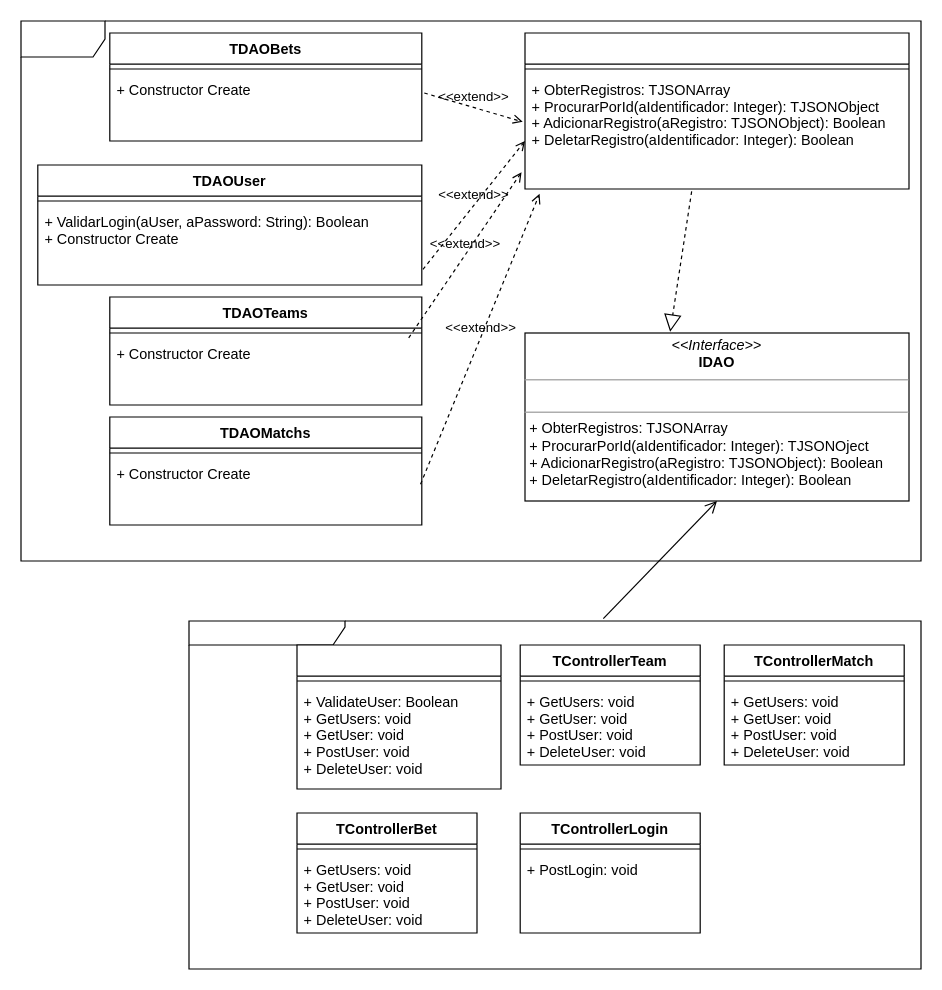
The diagram is 942 pixels wide and 990 high, and some of its shapes have lost their labels. The shapes that lost their labels are listed below. From the top down, each one's box as (x1, y1, x2, y2) in pixels, then its label:
(524, 32, 909, 189): TDAOBase
(20, 20, 921, 561): dao - Layer
(296, 644, 501, 789): TControllerUser
(188, 620, 921, 969): Controller - Layer
